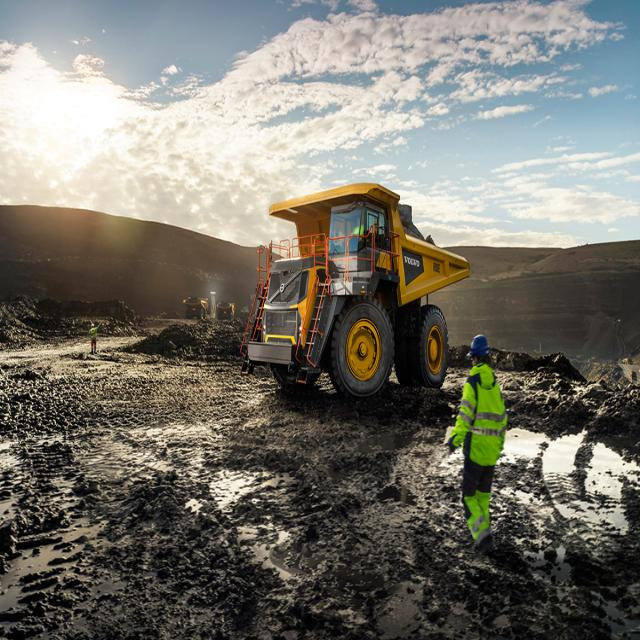dump_truck: (242, 158, 459, 403), (180, 287, 209, 320), (215, 290, 238, 323)
